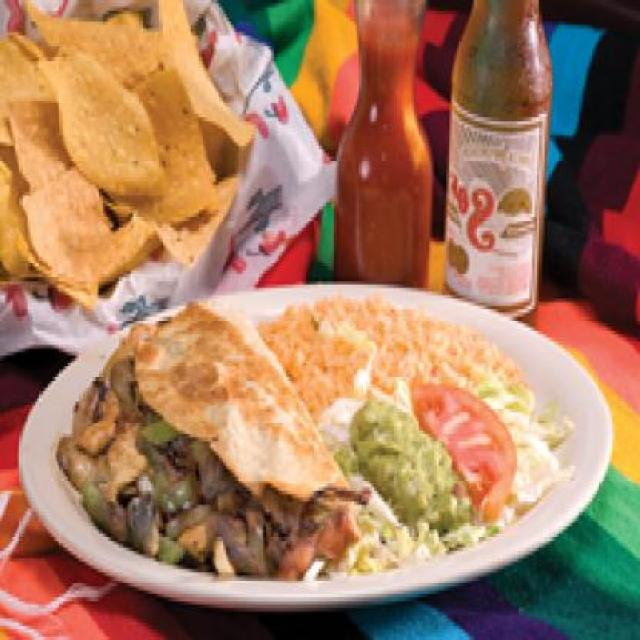chicken quesadilla: (32, 284, 338, 590)
guacamole: (348, 402, 472, 540)
macaroni and cheese: (268, 291, 534, 398)
